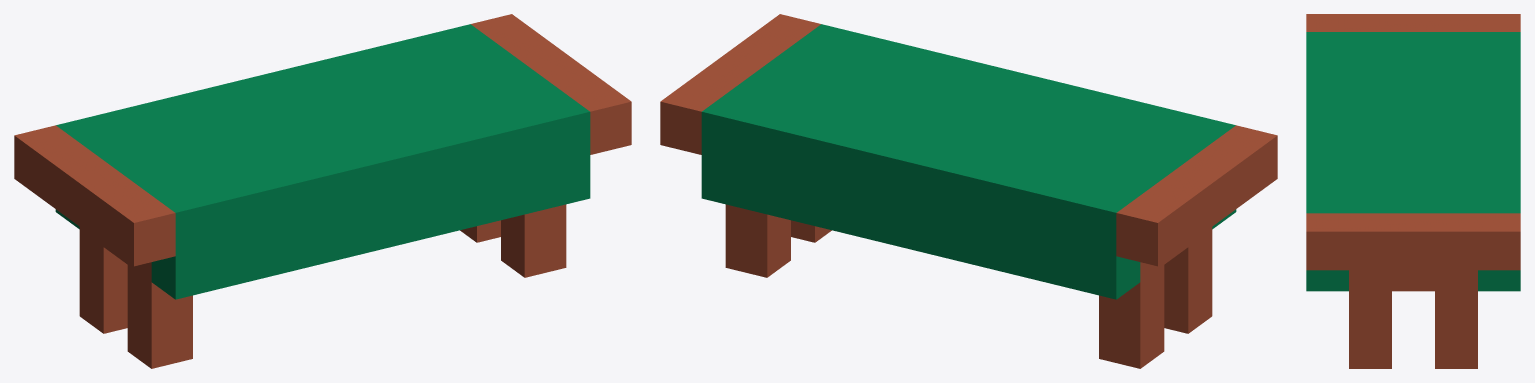
The model's file is large_bench_a_green.obj.
3 renders of one model, left to right at view 1: azimuth 30°, elevation 25°; view 2: azimuth 150°, elevation 25°; view 3: azimuth 270°, elevation 25°, orthographic. The views are drawn at different scales.
Bounding box in the file's own units: 1.2 × 0.4 × 0.5.
Materials: 1 (1 with a texture image).
